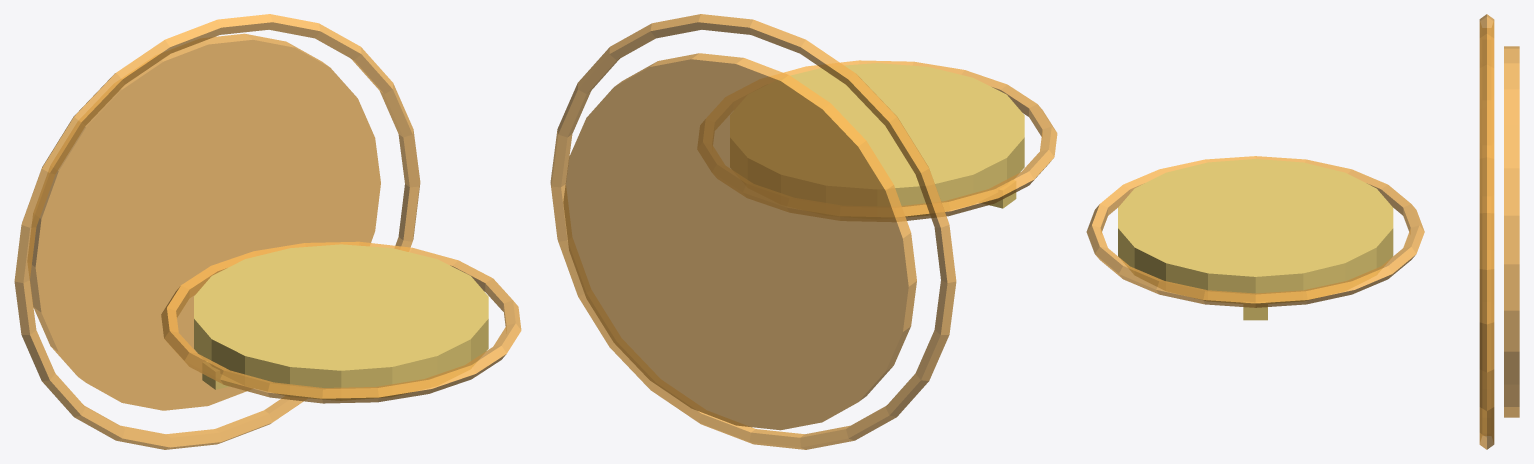
The model's file is shield_pickup_aegis_legendary.glb.
3 views of the same model, side by side, from view 1: azimuth 30°, elevation 25°; view 2: azimuth 150°, elevation 25°; view 3: azimuth 270°, elevation 25° (orthographic). The views are drawn at different scales.
Parts seen in each view (by area): view 1: rarity_base_disc, shield_face, rarity_orbit_ring, aegis_halo, rim; view 2: rarity_base_disc, shield_face, rarity_orbit_ring, aegis_halo, rim; view 3: shield_face, aegis_halo, rarity_orbit_ring, rarity_base_disc, rim.
Boxes of the visible parts, x1,y1,x2,y2 form: rarity_base_disc: [30, 33, 380, 410]; shield_face: [194, 244, 488, 400]; rarity_orbit_ring: [14, 14, 420, 449]; aegis_halo: [161, 241, 521, 403]; rim: [202, 361, 238, 389]; rarity_base_disc: [563, 53, 916, 430]; shield_face: [730, 63, 1024, 216]; rarity_orbit_ring: [550, 14, 956, 449]; aegis_halo: [712, 60, 1057, 220]; rim: [979, 180, 1016, 208]; shield_face: [1118, 159, 1393, 303]; aegis_halo: [1086, 156, 1424, 307]; rarity_orbit_ring: [1479, 14, 1494, 449]; rarity_base_disc: [1504, 46, 1519, 417]; rim: [1243, 302, 1267, 320].
Size of the model in its own units: 1.41 by 1.41 by 1.39.
